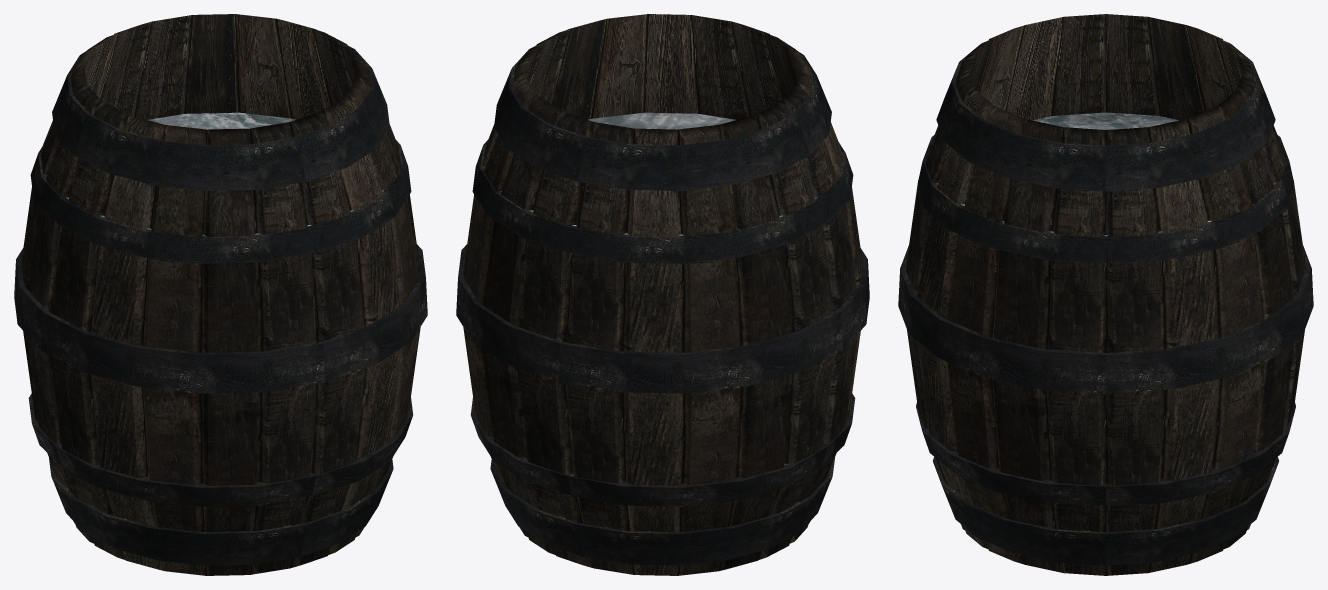
File: G3_Object_Interact_Barrel_01.obj
3 views of the same model, side by side, from view 1: azimuth 30°, elevation 25°; view 2: azimuth 150°, elevation 25°; view 3: azimuth 270°, elevation 25° (orthographic).
Visible parts, largest first — view 1: G3_Object_Interact_Barrel_01_2, G3_Object_Interact_Barrel_01_1, G3_Object_Interact_Barrel_01_0; view 2: G3_Object_Interact_Barrel_01_2, G3_Object_Interact_Barrel_01_1, G3_Object_Interact_Barrel_01_0; view 3: G3_Object_Interact_Barrel_01_2, G3_Object_Interact_Barrel_01_1, G3_Object_Interact_Barrel_01_0.
Boxes of the visible parts, x1,y1,x2,y2 form: G3_Object_Interact_Barrel_01_2: (21, 14, 420, 575); G3_Object_Interact_Barrel_01_1: (14, 45, 427, 565); G3_Object_Interact_Barrel_01_0: (66, 112, 383, 235); G3_Object_Interact_Barrel_01_2: (463, 14, 862, 575); G3_Object_Interact_Barrel_01_1: (456, 45, 869, 565); G3_Object_Interact_Barrel_01_0: (501, 112, 817, 235); G3_Object_Interact_Barrel_01_2: (906, 14, 1305, 575); G3_Object_Interact_Barrel_01_1: (898, 44, 1313, 565); G3_Object_Interact_Barrel_01_0: (937, 112, 1274, 236).
Bounding box in the file's own units: 0.9429 × 1.12 × 0.9429.
